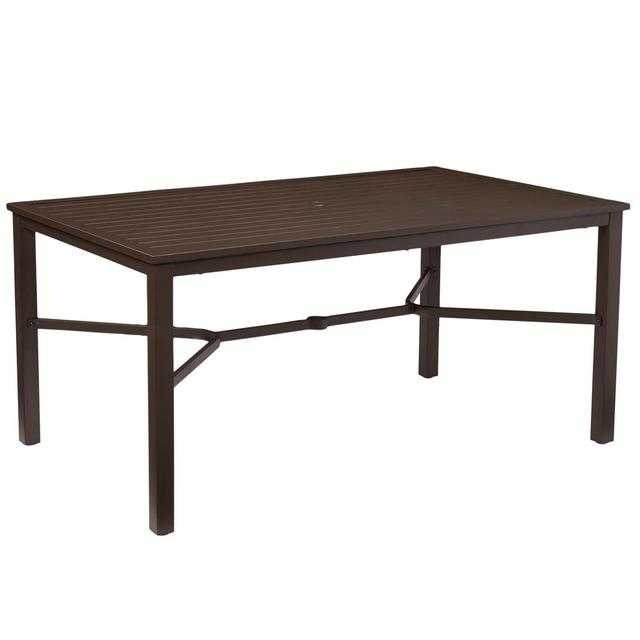obstacle: (7, 167, 628, 534)
